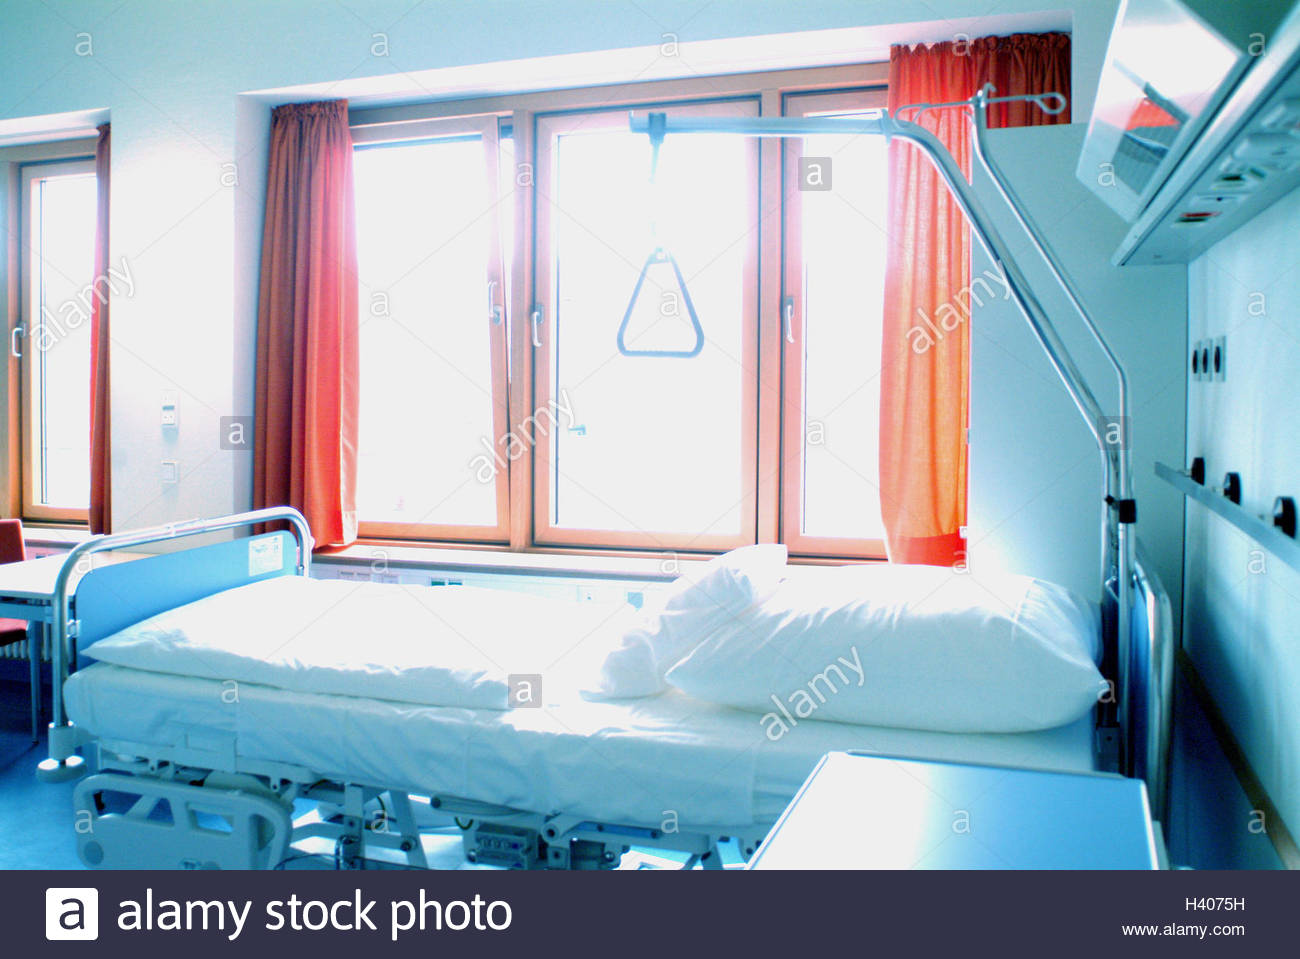hospital bed: (48, 549, 1173, 771)
